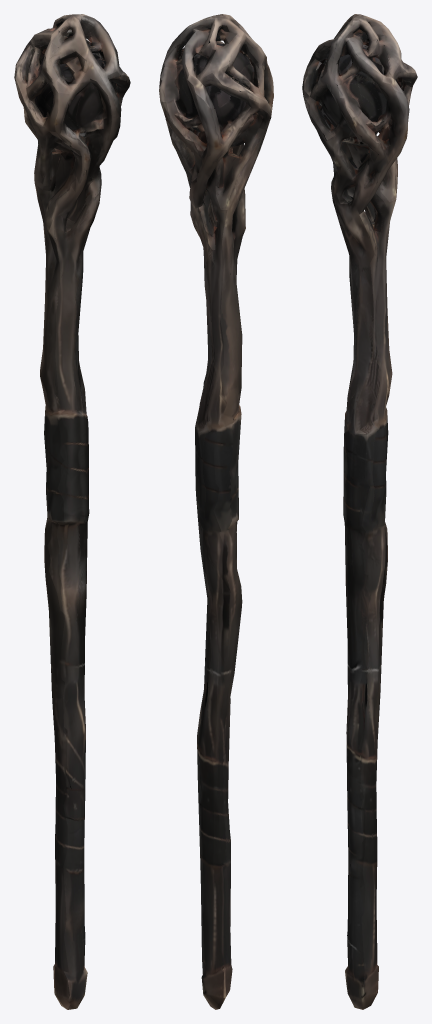
Rendered from SM_Staff_Hushfall.FBX.
3 views of the same model, side by side, from view 1: azimuth 90°, elevation 25°; view 2: azimuth 210°, elevation 25°; view 3: azimuth 270°, elevation 25° (orthographic).
Parts seen in each view (by area): view 1: SM_Staff_Hushfall; view 2: SM_Staff_Hushfall; view 3: SM_Staff_Hushfall.
Part boxes in pixels (<box>): SM_Staff_Hushfall: <box>14,14,130,1009</box>; SM_Staff_Hushfall: <box>159,14,273,1009</box>; SM_Staff_Hushfall: <box>302,14,417,1009</box>.
Size of what is drawn, in the model's own units: 17.21 by 16.91 by 160.
